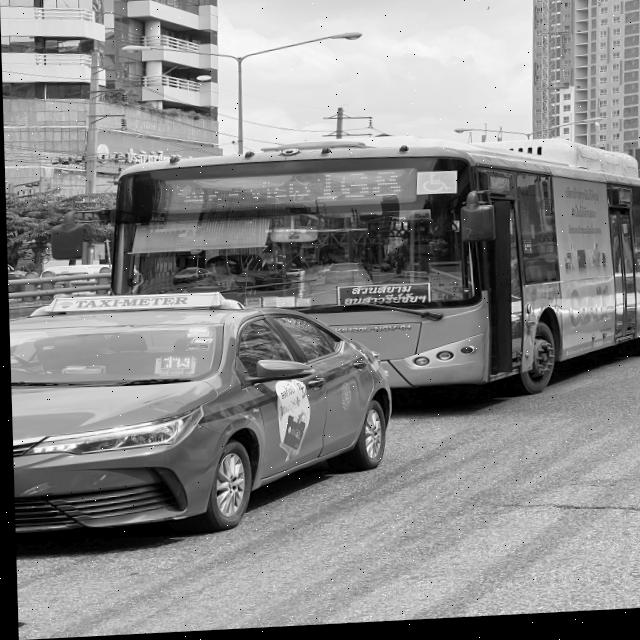BMTA-bus: (104, 136, 640, 417)
Bus-Line-Number: (311, 173, 408, 207)
Destination-Sign-Normal: (337, 286, 429, 310)
